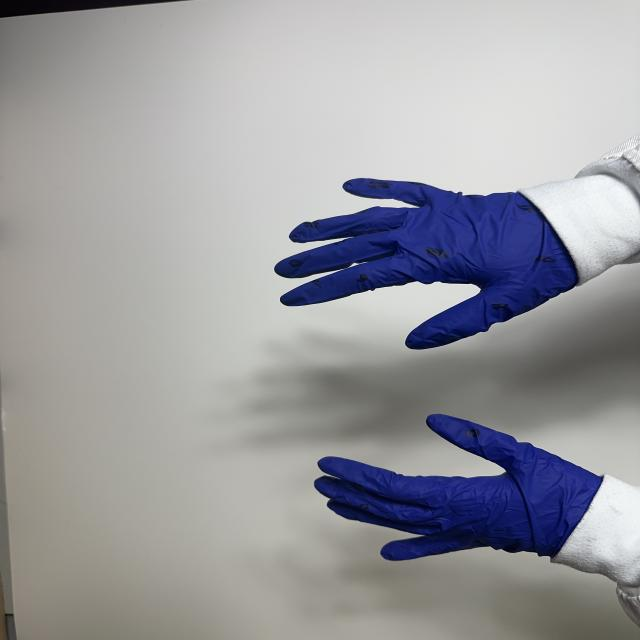gloves_contaminated: (275, 179, 578, 349), (315, 415, 601, 560)
